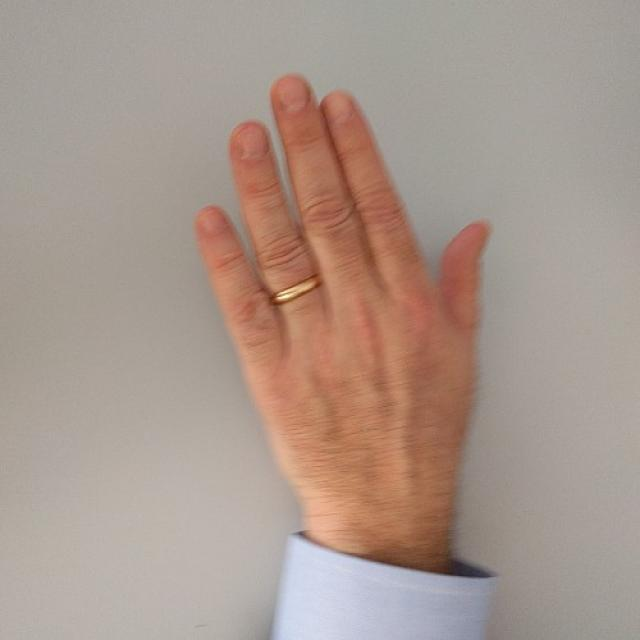paper: (197, 70, 495, 483)
